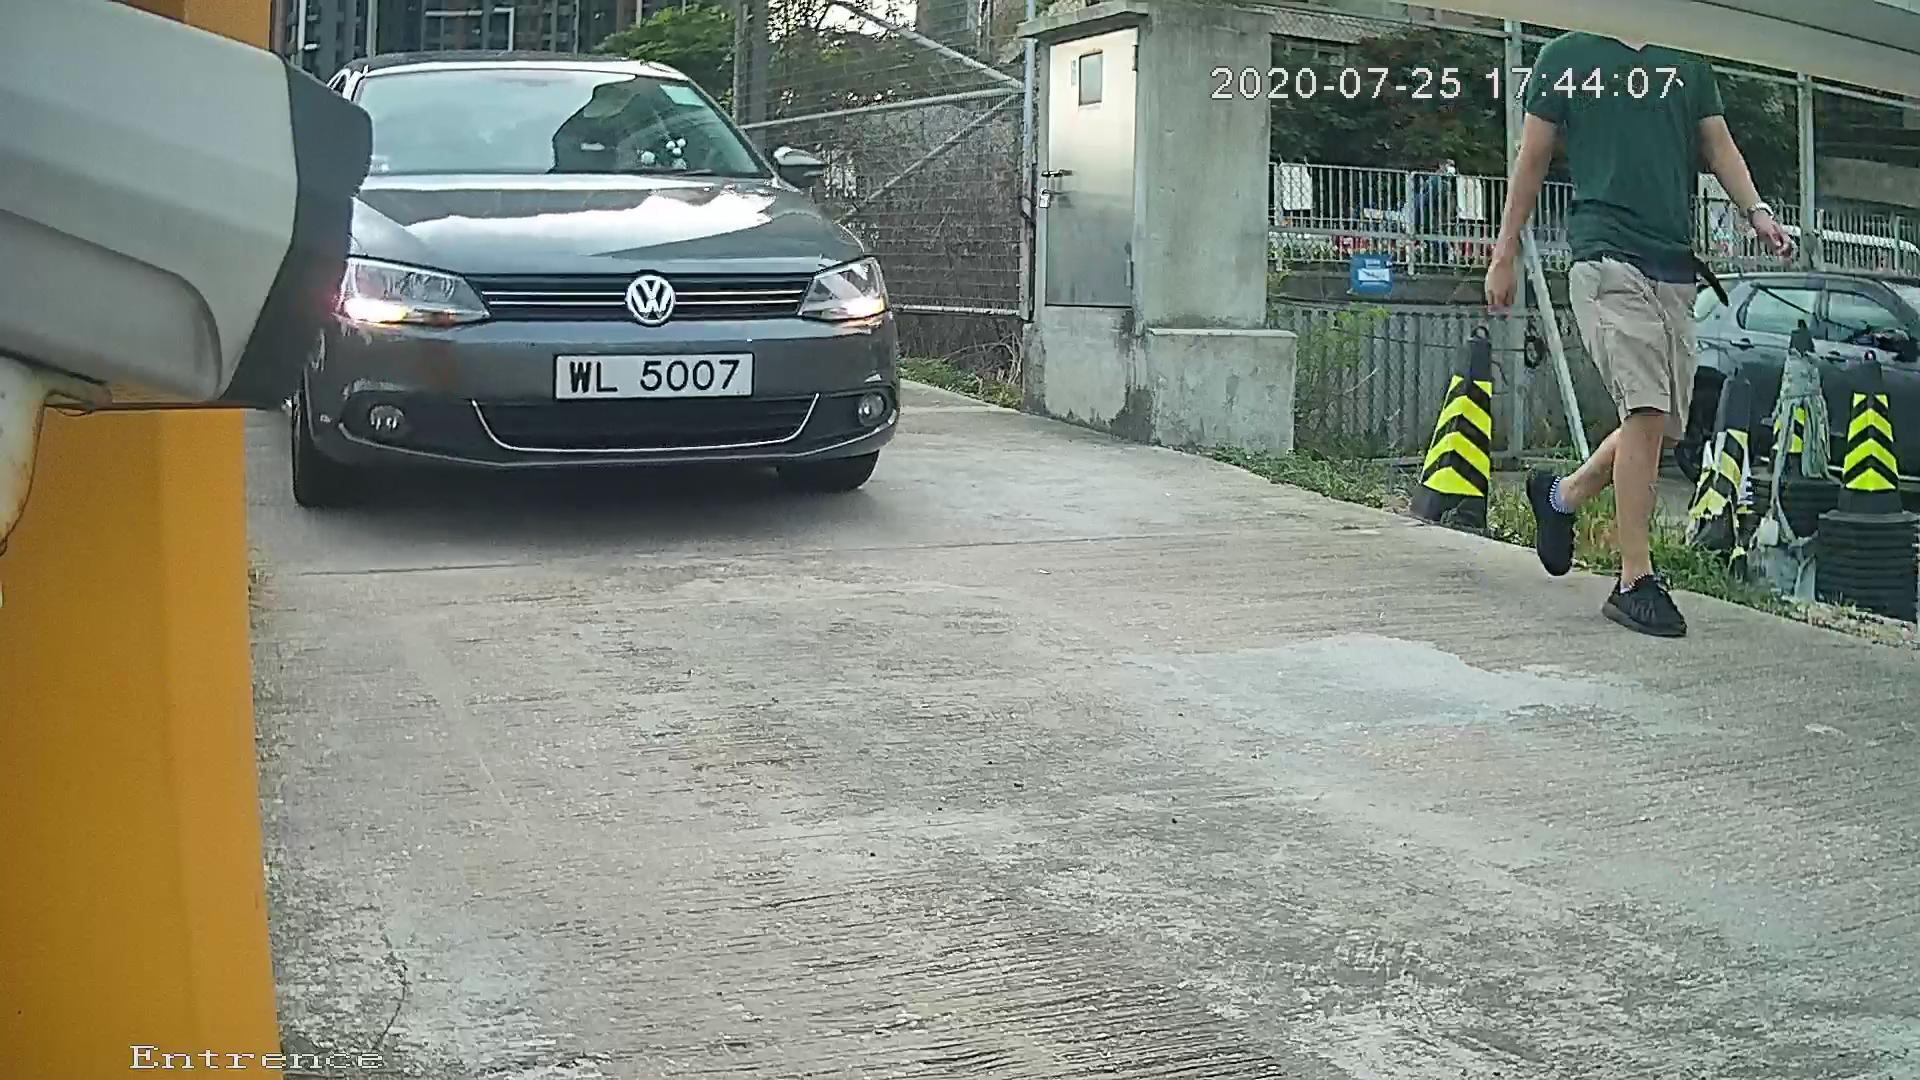Car: (232, 20, 969, 497)
License Plate: (532, 333, 763, 410)
